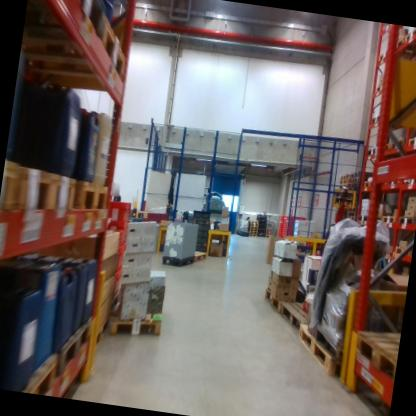pallet: (17, 6, 140, 95), (287, 321, 364, 380), (16, 150, 87, 210), (42, 309, 96, 385), (348, 319, 401, 391), (0, 140, 37, 233), (25, 0, 113, 39), (277, 299, 343, 350), (68, 179, 122, 230), (20, 338, 61, 396), (110, 306, 165, 348), (256, 282, 298, 316), (155, 249, 201, 276), (89, 317, 112, 357), (375, 134, 397, 173), (386, 131, 409, 161), (381, 211, 416, 230), (361, 140, 385, 165), (186, 247, 209, 270), (360, 178, 382, 200), (349, 167, 378, 183), (403, 127, 416, 152), (349, 173, 367, 186), (368, 210, 383, 225), (357, 211, 369, 226), (338, 175, 350, 185), (337, 183, 349, 193), (346, 210, 357, 220), (338, 170, 349, 180), (350, 178, 360, 188), (247, 232, 257, 238), (247, 219, 258, 223), (247, 221, 258, 225), (248, 224, 258, 228), (247, 227, 257, 231), (248, 230, 256, 233)
